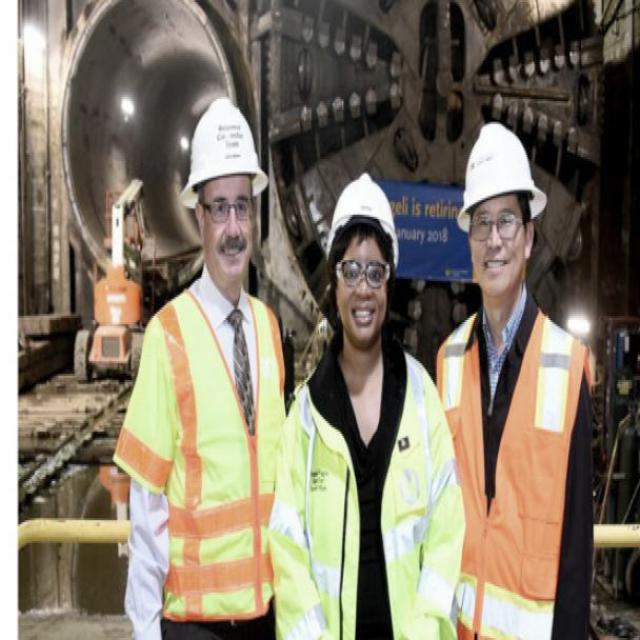helmet: (168, 78, 264, 291), (462, 92, 542, 314), (312, 169, 411, 343)
vest: (277, 349, 478, 637), (121, 299, 295, 626), (434, 311, 581, 638)
